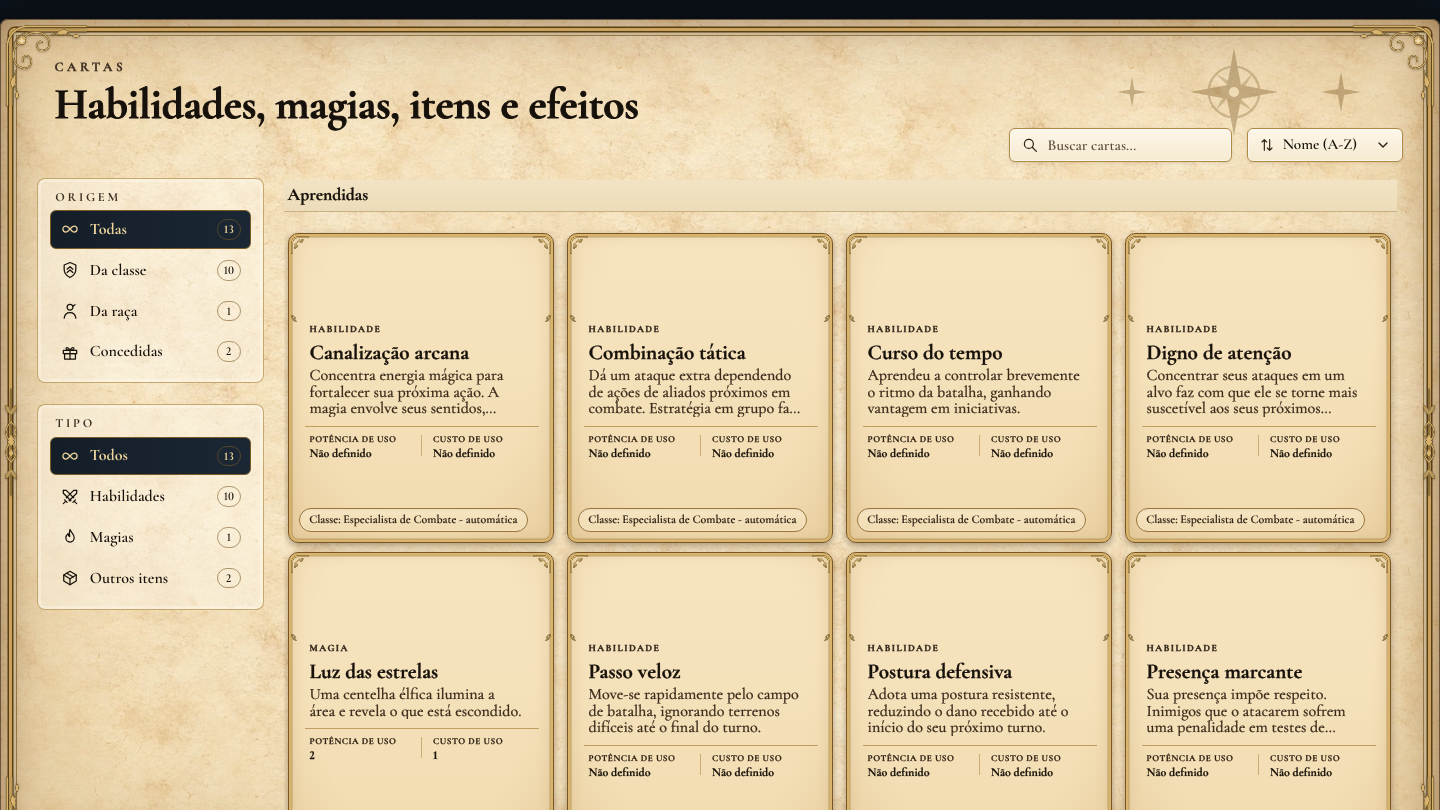
Test case: Barra lateral de filtros › filtro sem resultado oferece Limpar filtros
Click the button "Da raça 1".
click(150, 311)  # box [50, 292, 251, 330]
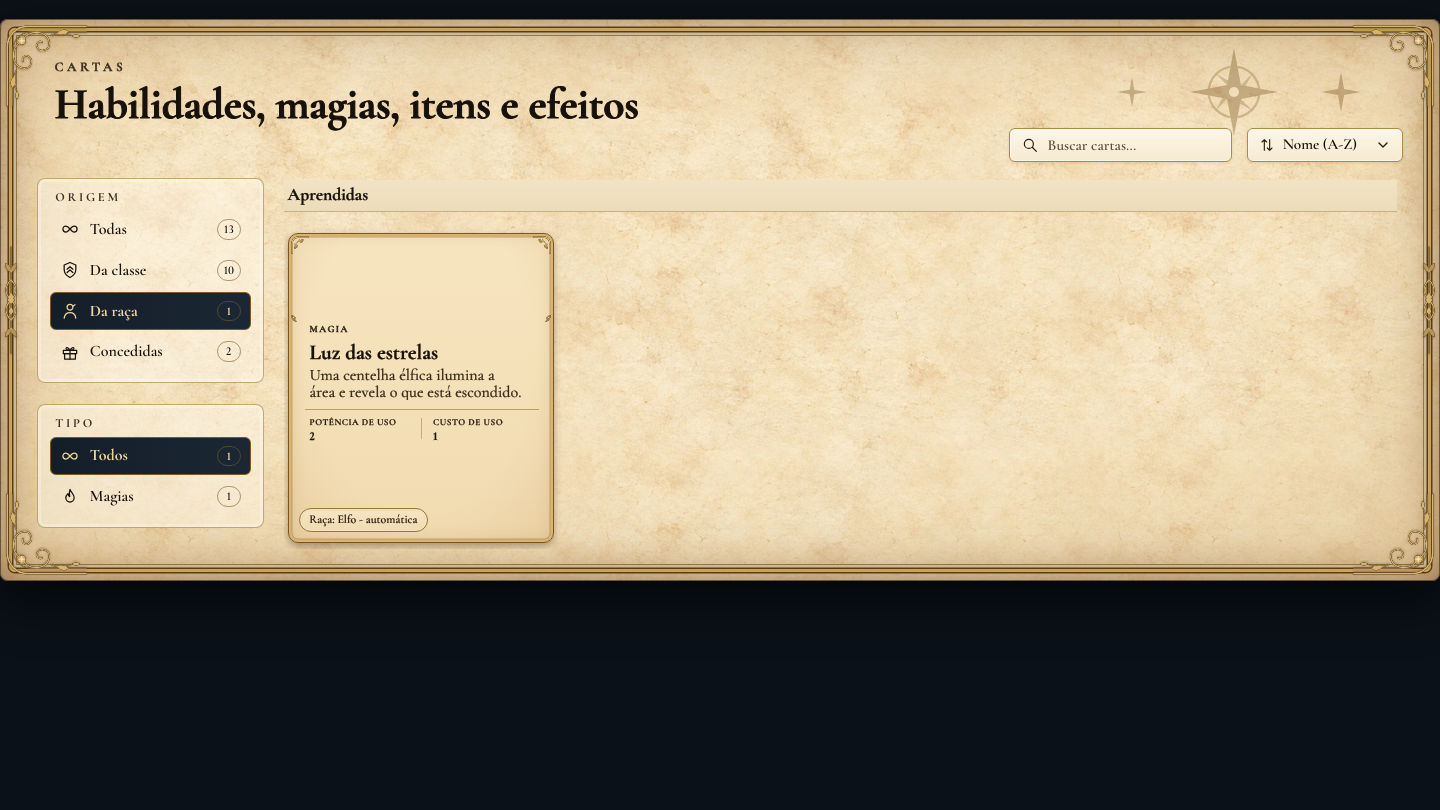
Type "dragão" into the search field labelled "Buscar cartas".
click(1121, 145); type("dragão")  # box [1009, 128, 1232, 162]
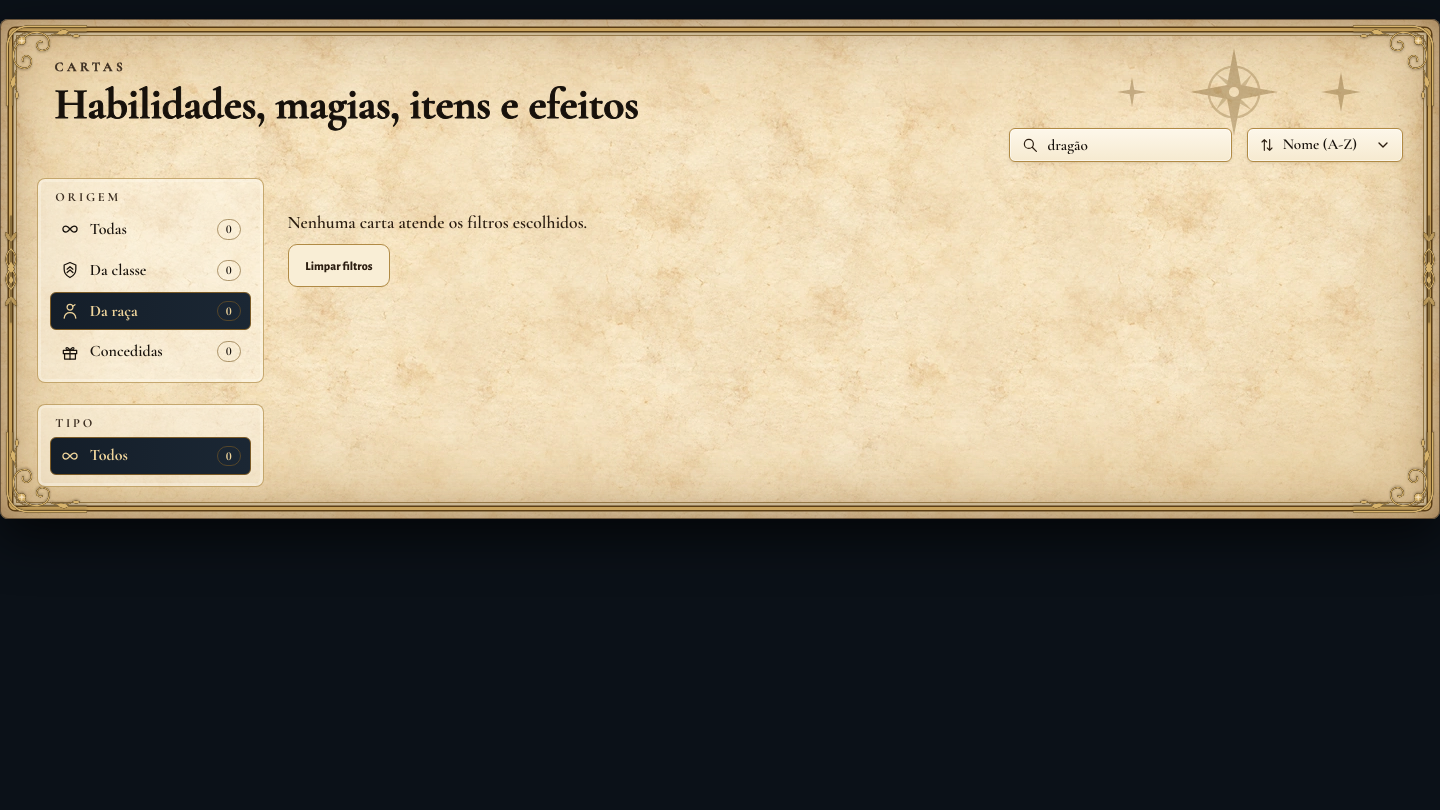
Result: the text "Nenhuma carta atende os filtros escolhidos." is shown at [288, 212, 587, 235]
Click the button "Limpar filtros".
click(339, 266)  # box [288, 244, 390, 287]
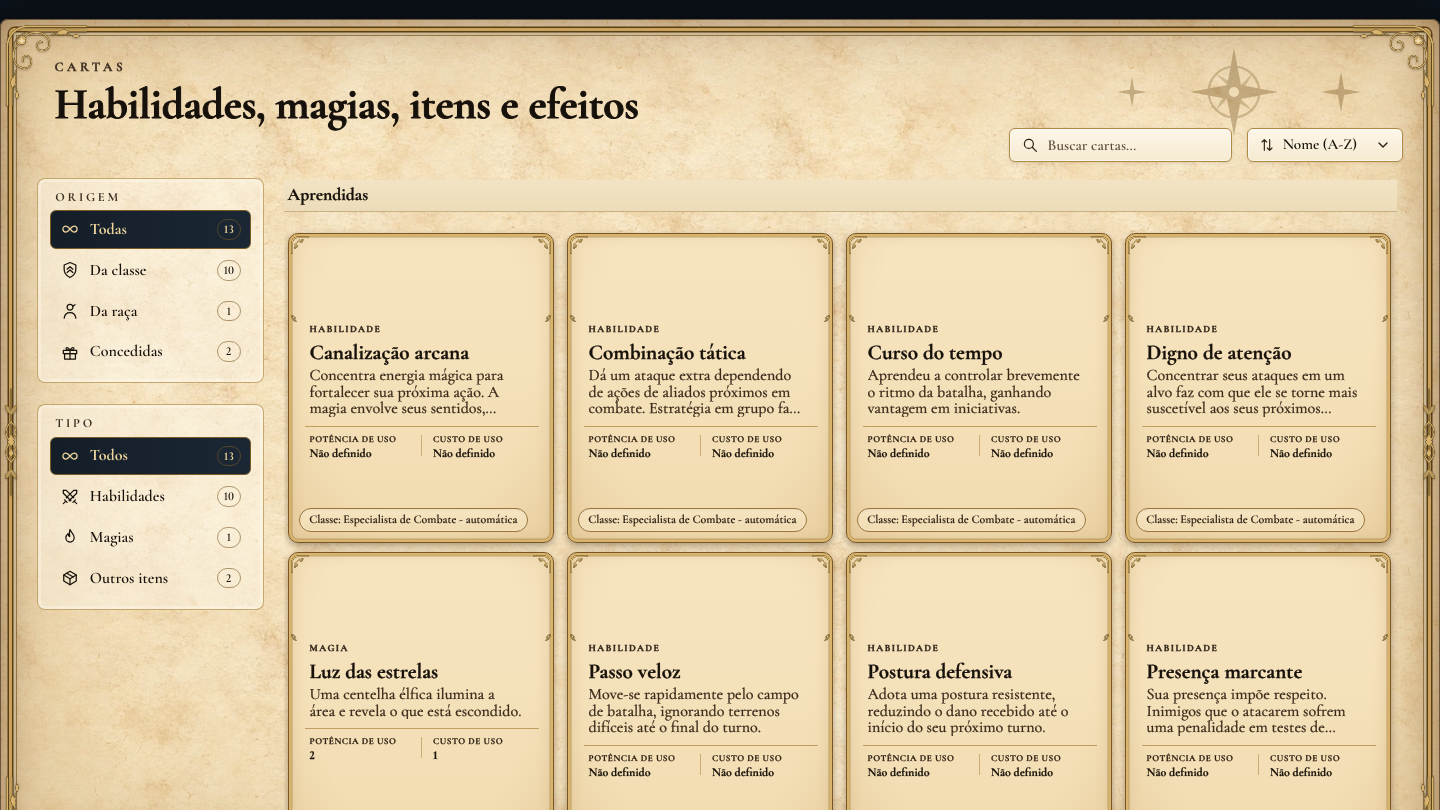
Result: the search field labelled "Buscar cartas" is empty at [1009, 128, 1232, 162]
